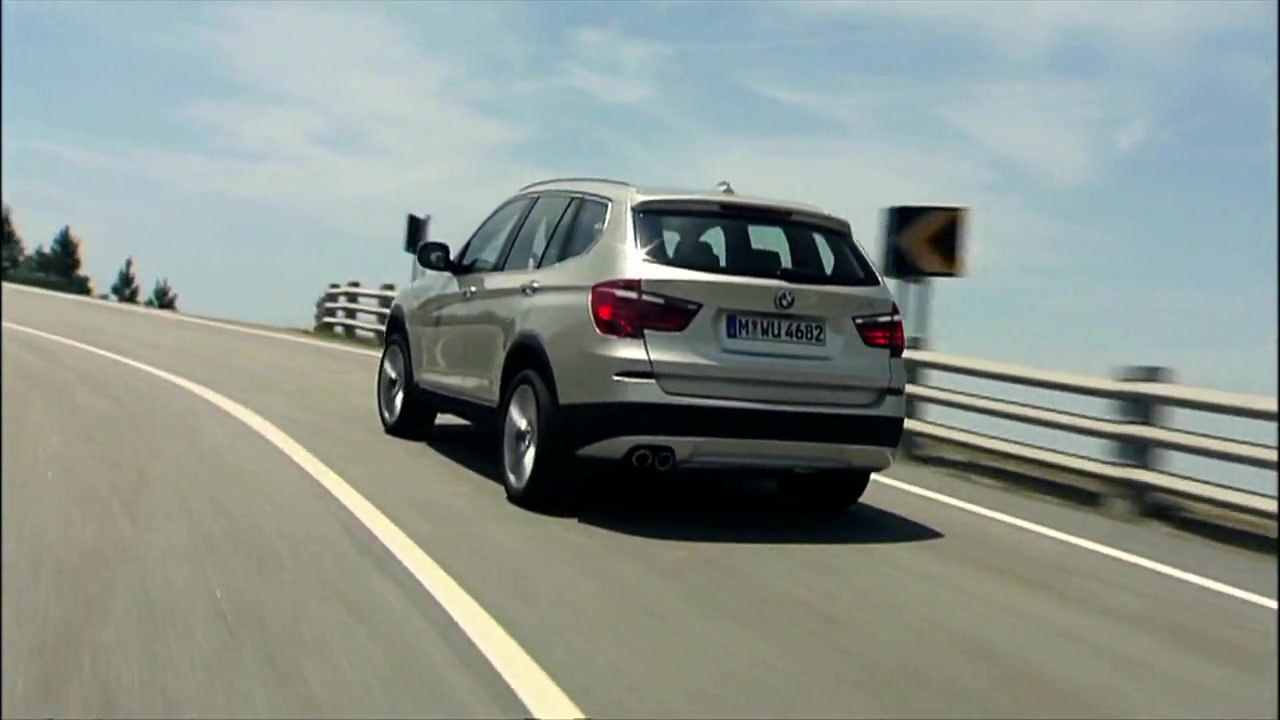car: (377, 176, 910, 515)
